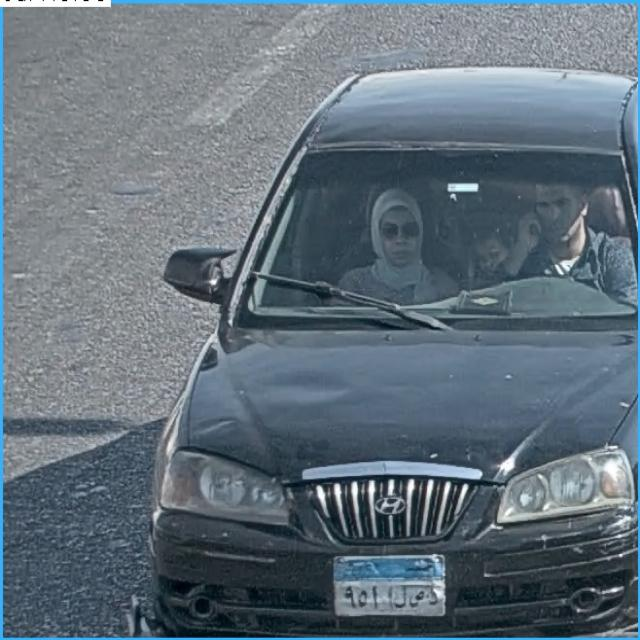windshield: (239, 149, 640, 319)
